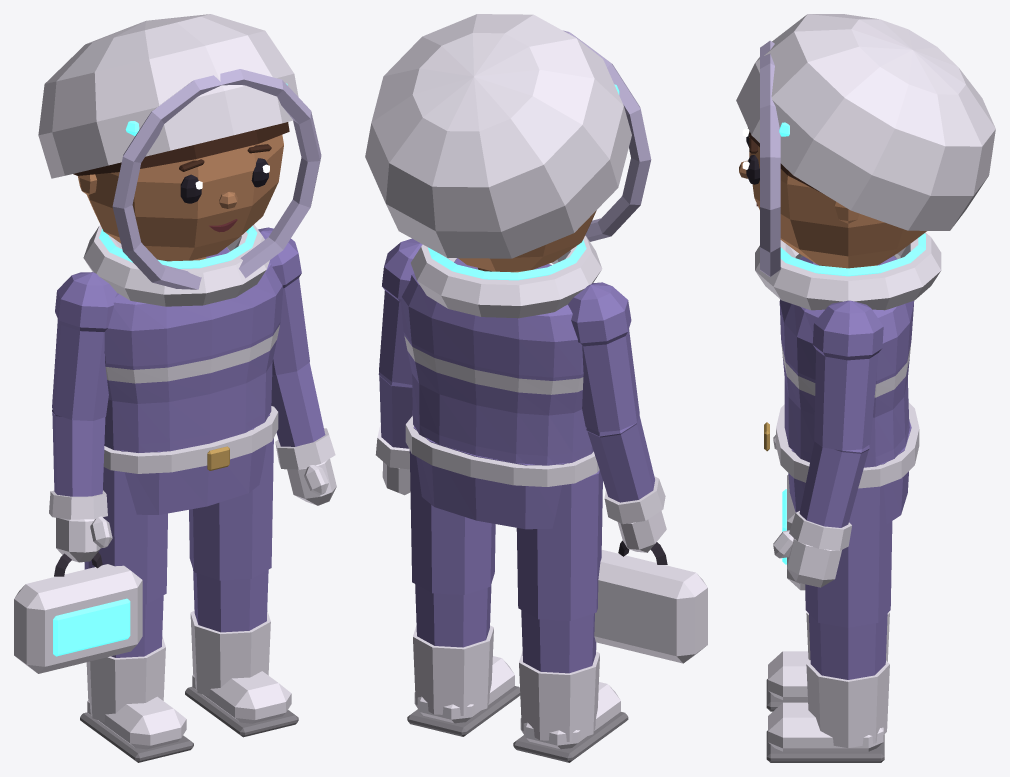
File: aby-k1.glb
3 views of the same model, side by side, from view 1: azimuth 30°, elevation 25°; view 2: azimuth 150°, elevation 25°; view 3: azimuth 270°, elevation 25° (orthographic).
Visible parts, largest first — view 1: kopfbedeckung, torso, kopf, arm_r, gegenstand_samplecase, bein_l, schuh_l, schuh_r, arm_l, kragen, bein_r, becken (+5 smaller); view 2: kopfbedeckung, torso, bein_r, arm_r, bein_l, gegenstand_samplecase, kragen, schuh_r, schuh_l, arm_l, becken, gürtel (+3 smaller); view 3: kopfbedeckung, arm_l, bein_l, torso, schuh_l, kragen, kopf, gürtel, schuh_r, hand_l, becken, gesicht (+1 smaller).
Boxes of the visible parts, x1,y1,x2,y2 form: kopfbedeckung: (38, 14, 321, 289); torso: (92, 247, 283, 452); kopf: (78, 135, 283, 260); arm_r: (49, 272, 116, 519); gegenstand_samplecase: (14, 552, 142, 673); bein_l: (189, 438, 273, 632); schuh_l: (185, 610, 298, 737); schuh_r: (80, 636, 193, 762); arm_l: (258, 227, 335, 469); kragen: (83, 224, 269, 306); bein_r: (84, 467, 167, 657); becken: (120, 414, 269, 514); kopfbedeckung: (365, 14, 651, 258); torso: (401, 258, 593, 465); bein_r: (516, 470, 602, 673); arm_r: (568, 282, 665, 524); bein_l: (409, 450, 495, 647); gegenstand_samplecase: (594, 540, 707, 663); kragen: (411, 235, 602, 318); schuh_r: (513, 651, 628, 762); schuh_l: (407, 625, 520, 736); arm_l: (375, 238, 422, 469); becken: (413, 426, 566, 529); gürtel: (405, 416, 599, 486); kopfbedeckung: (736, 14, 995, 276); arm_l: (789, 300, 883, 550); bein_l: (805, 485, 892, 679); torso: (779, 256, 914, 467); schuh_l: (766, 660, 889, 762); kragen: (755, 232, 941, 310); kopf: (749, 137, 926, 268); gürtel: (764, 402, 919, 488); schuh_r: (766, 612, 889, 711); hand_l: (773, 530, 841, 587); becken: (788, 420, 911, 524); gesicht: (739, 128, 759, 206).
Bounding box in the file's own units: 0.0123 × 0.0257 × 0.0087.
